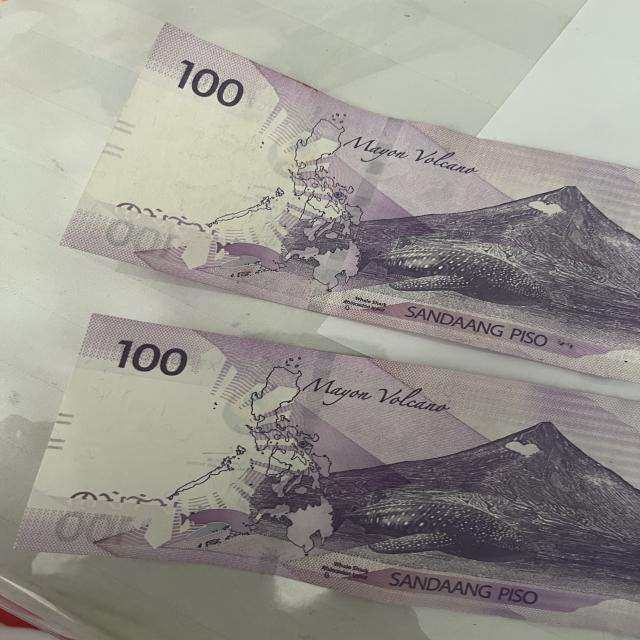100_whale: (312, 484, 553, 566), (341, 230, 559, 310)
100_whale_watermark: (172, 492, 270, 549), (203, 232, 298, 283)
